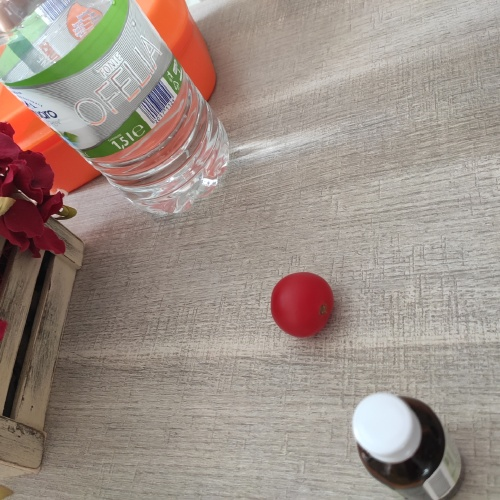pomodoro: (266, 273, 338, 336)
